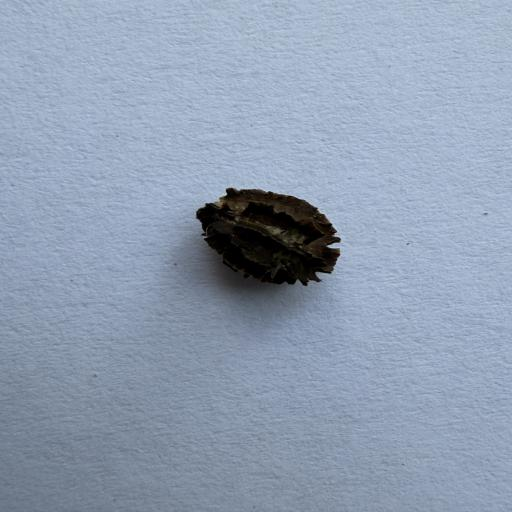papaya_seed: (174, 173, 378, 299)
